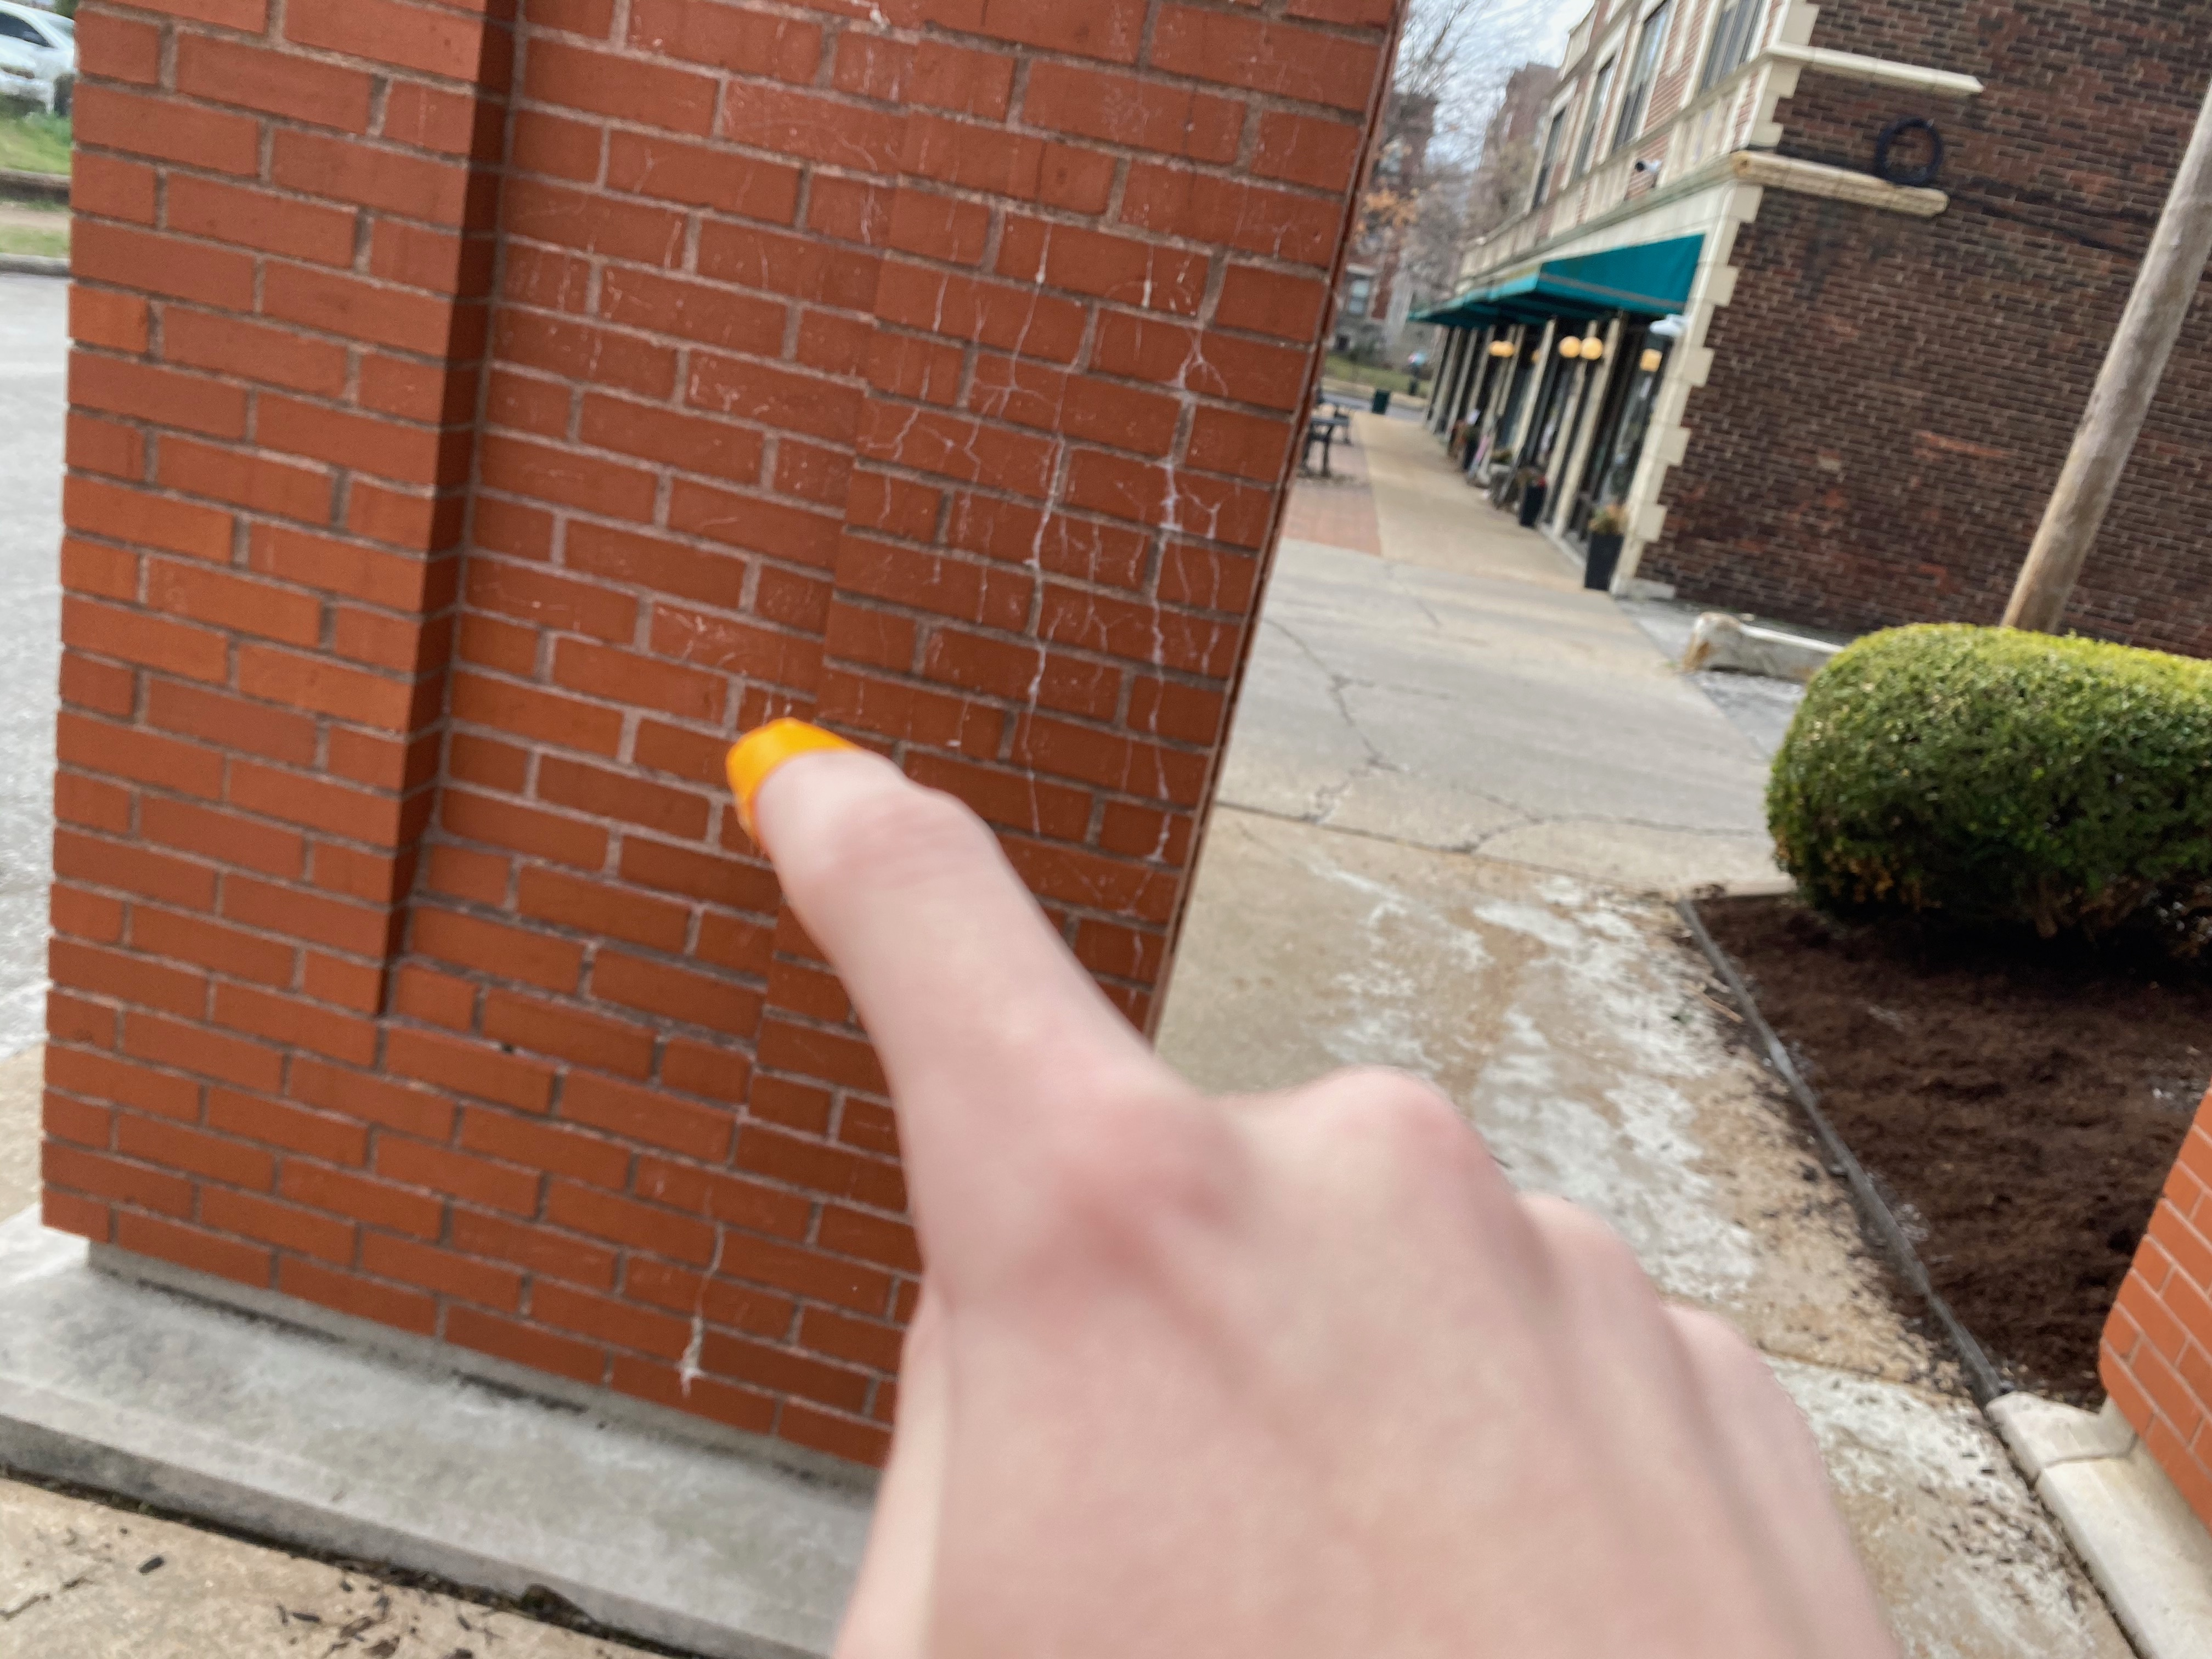fingertip: (716, 718, 892, 847)
